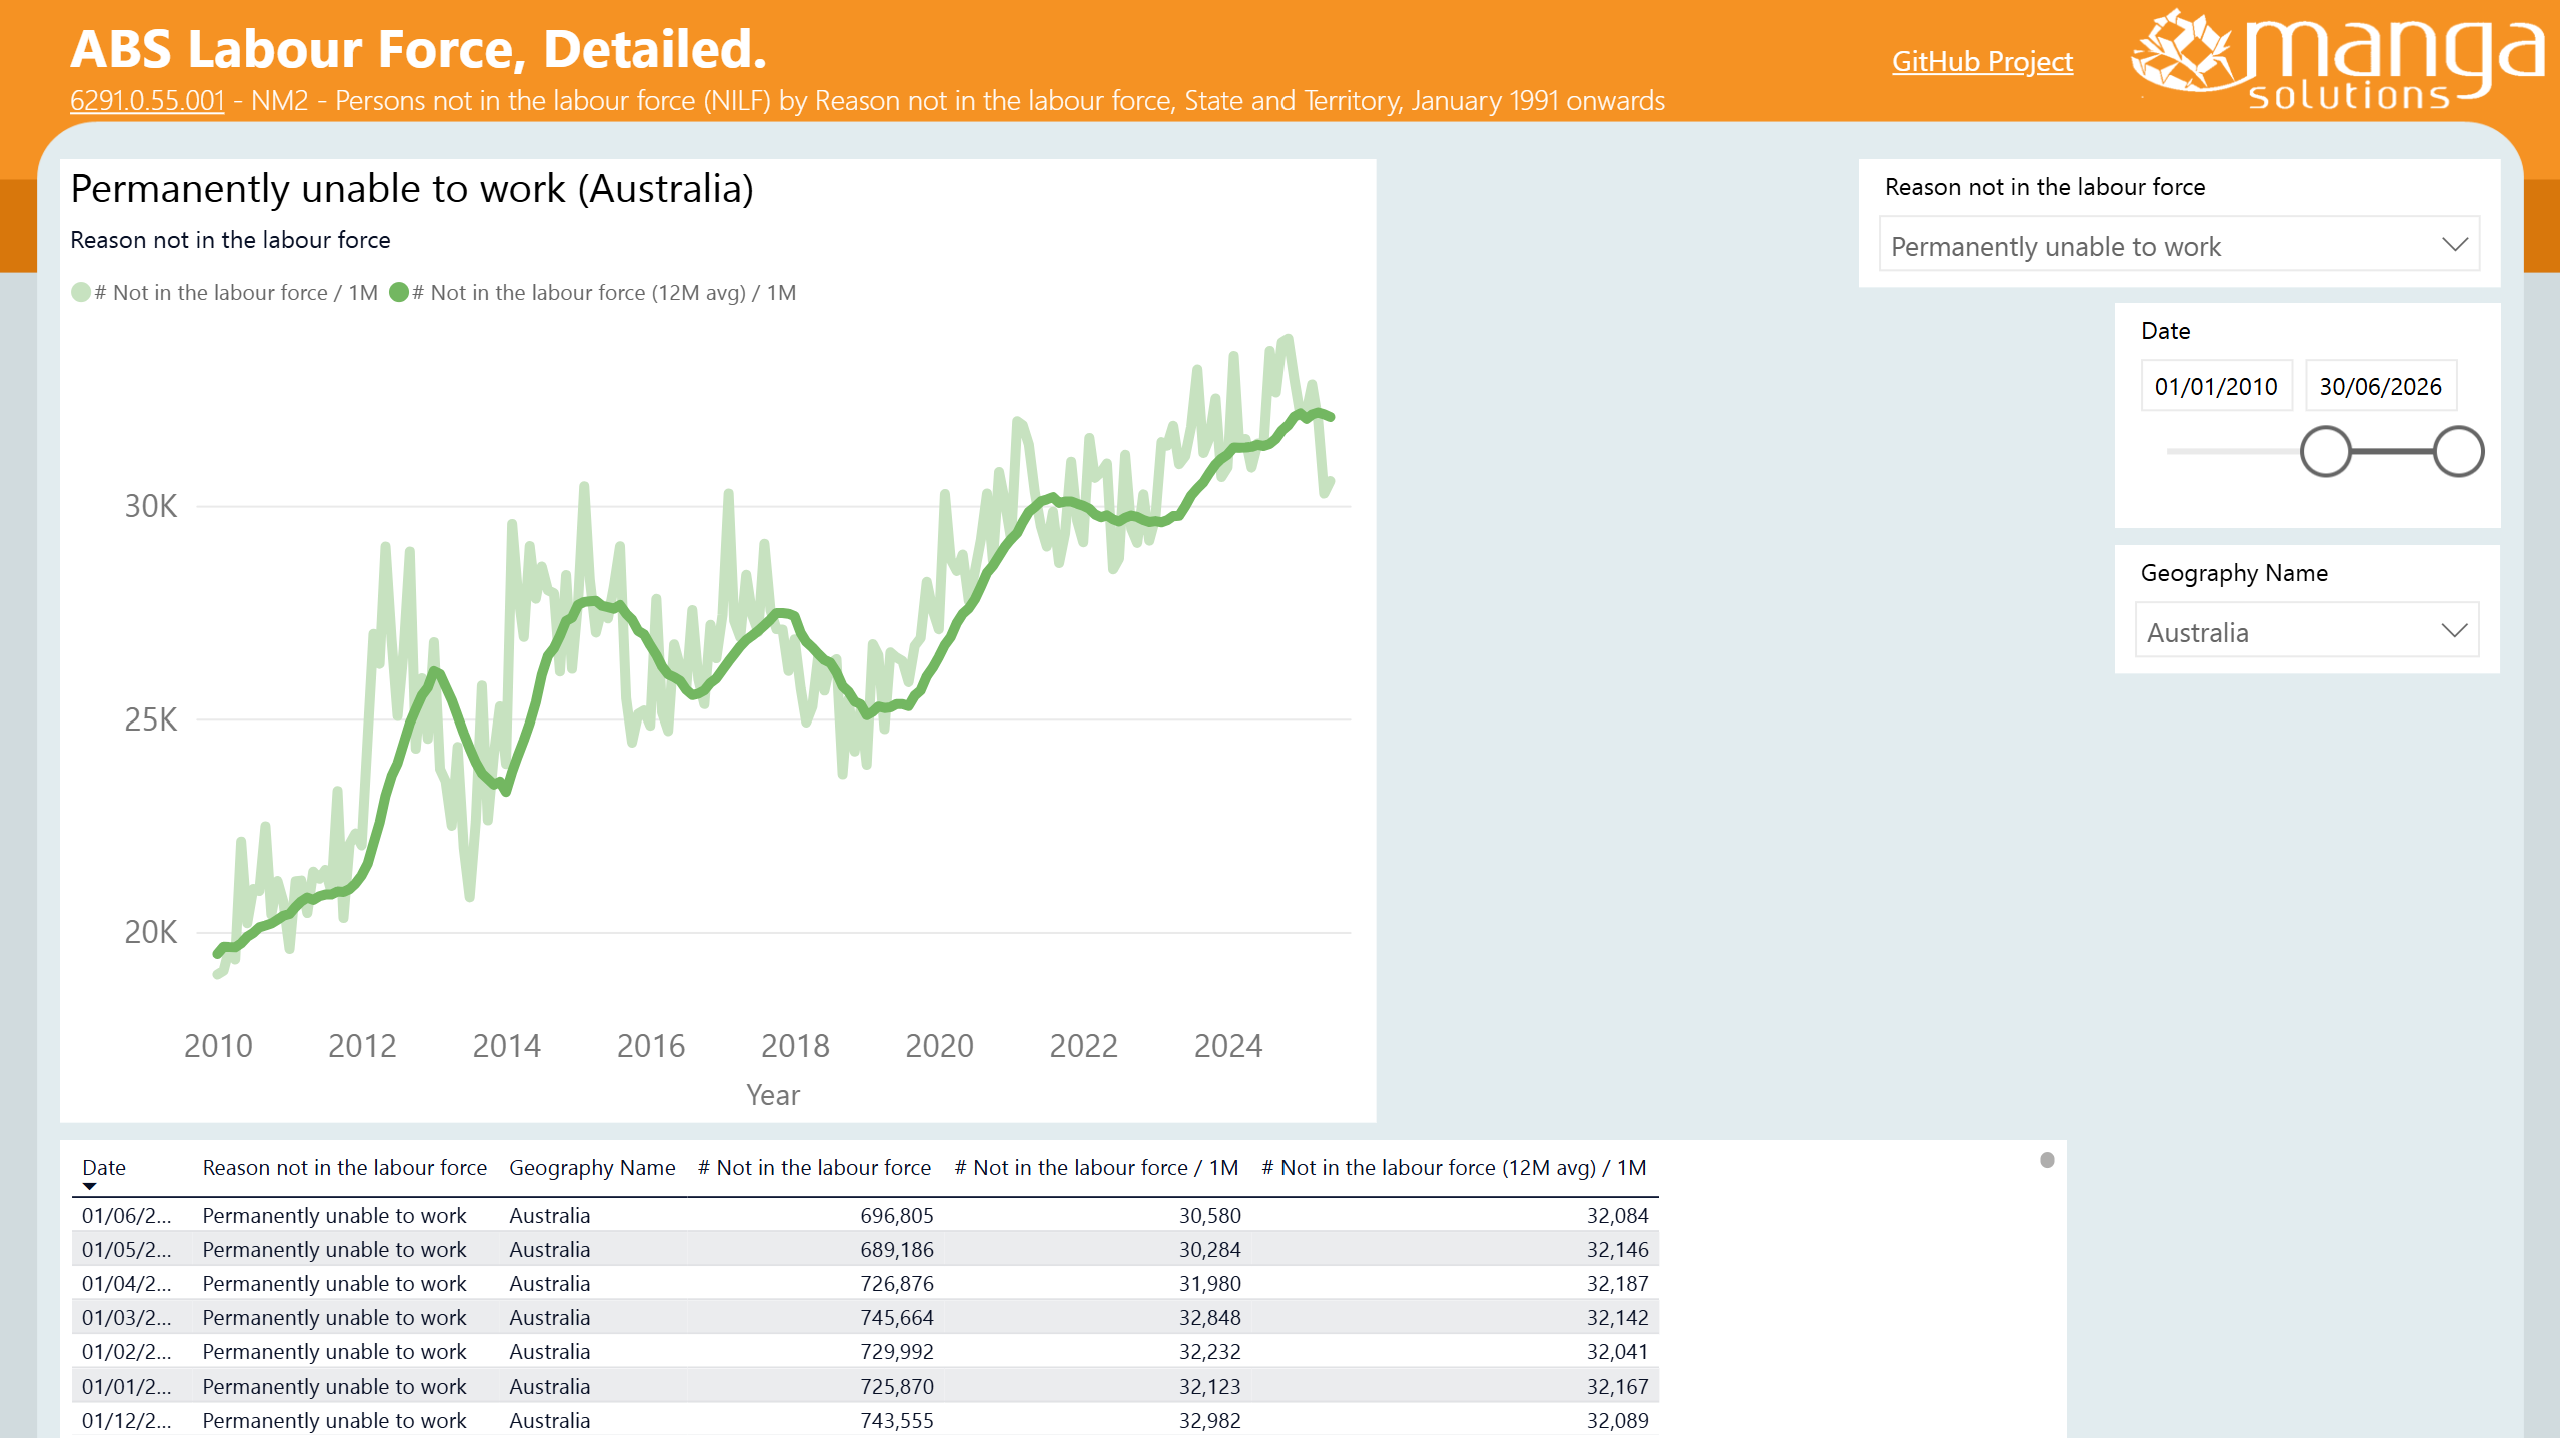

The dashboard page shown, as its layout file describes it:
{"tool":"powerbi","page":{"name":"NM2 Line Chart","canvas":[1280,720],"ordinal":4},"visuals":[{"type":"lineChart","fields":{"Category":["Date.Date.Variation.Date Hierarchy.Year","Date.Date.Variation.Date Hierarchy.Quarter","Date.Date.Variation.Date Hierarchy.Month","Date.Date.Variation.Date Hierarchy.Day"],"Y":["NM2.# Not in the labour force / 1M","NM2.# Not in the labour force (12M avg) / 1M"]},"box":[32,80,656,480],"z":0},{"type":"slicer","fields":{"Values":["Date.Date"]},"box":[1056,152,192,112],"z":1000},{"type":"slicer","fields":{"Values":["NM2.Reason not in the labour force"]},"box":[928,80,320,64],"z":2000},{"type":"textbox","box":[32,0,912,72],"z":3000},{"type":"actionButton","box":[1056,0,224,64],"z":4000},{"type":"slicer","fields":{"Values":["Australia States and Territories.Geography Name"]},"box":[1056,272,192,64],"z":5000},{"type":"tableEx","fields":{"Values":["Date.Date","NM2.Reason not in the labour force","Australia States and Territories.Geography Name","NM2.# Not in the labour force","NM2.# Not in the labour force / 1M","NM2.# Not in the labour force (12M avg) / 1M"]},"box":[32,568,1000,152],"z":6000},{"type":"textbox","box":[920,16,120,32],"z":7000}]}

Visuals, with their boxes in screenshot pixels (x1, y1, x2, y2), scaled from the page's 1280x720 canvas onto the 2560x1438 screenshot:
lineChart - Date.Date.Variation.Date Hierarchy.Year x Date.Date.Variation.Date Hierarchy.Quarter: Rect(64, 160, 1376, 1118)
slicer - Date.Date: Rect(2112, 304, 2496, 527)
slicer - NM2.Reason not in the labour force: Rect(1856, 160, 2496, 288)
textbox: Rect(64, 0, 1888, 144)
actionButton: Rect(2112, 0, 2559, 128)
slicer - Australia States and Territories.Geography Name: Rect(2112, 543, 2496, 671)
tableEx - Date.Date x NM2.Reason not in the labour force: Rect(64, 1134, 2064, 1437)
textbox: Rect(1840, 32, 2080, 96)
